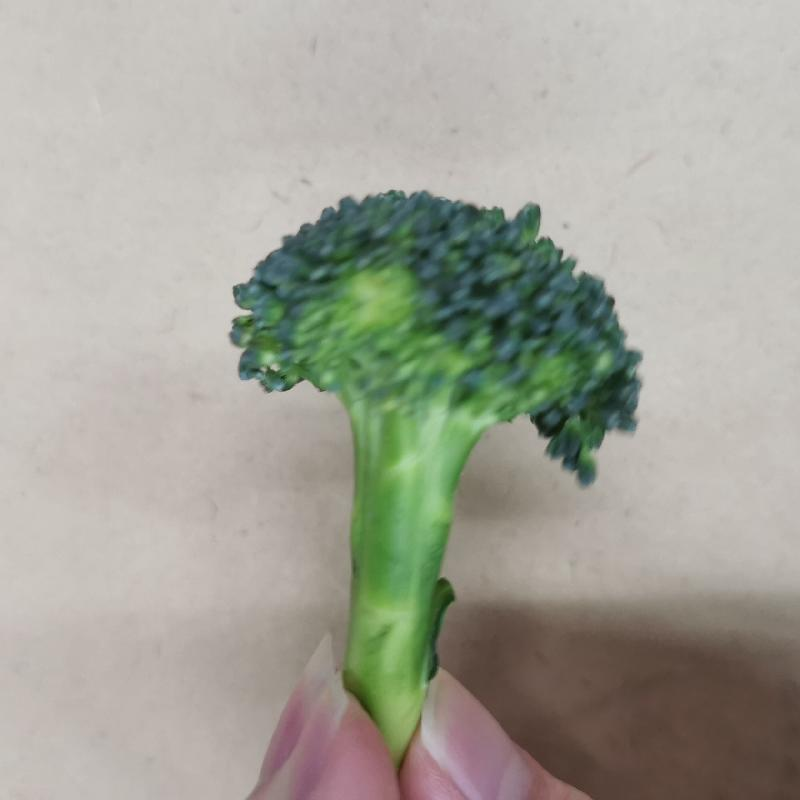broccoli: (218, 181, 648, 762)
